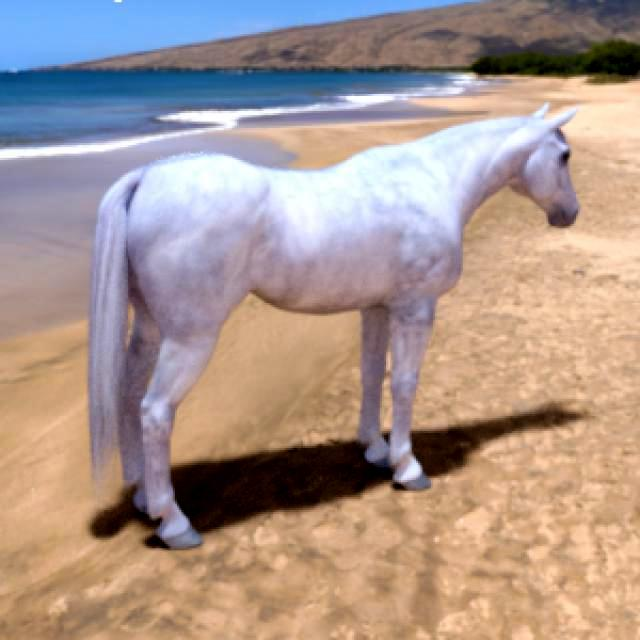horse: (91, 106, 579, 547)
